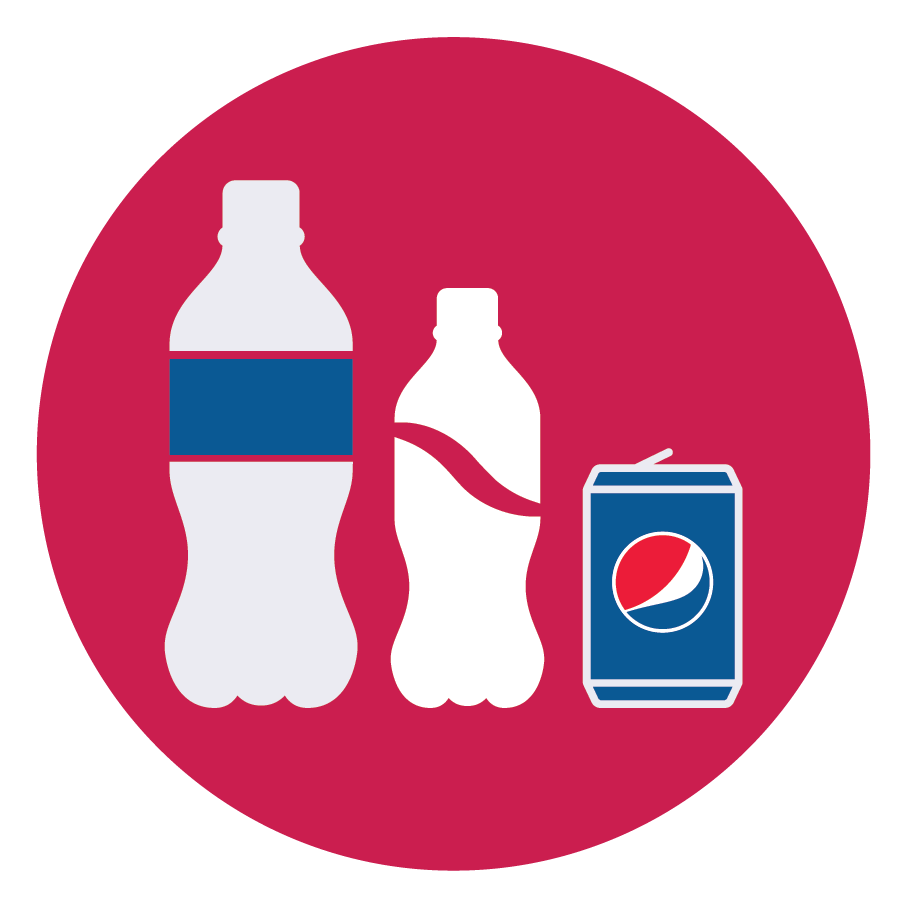pepsi: (612, 527, 710, 631)
